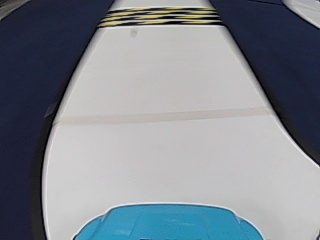bump: (114, 5, 208, 32)
